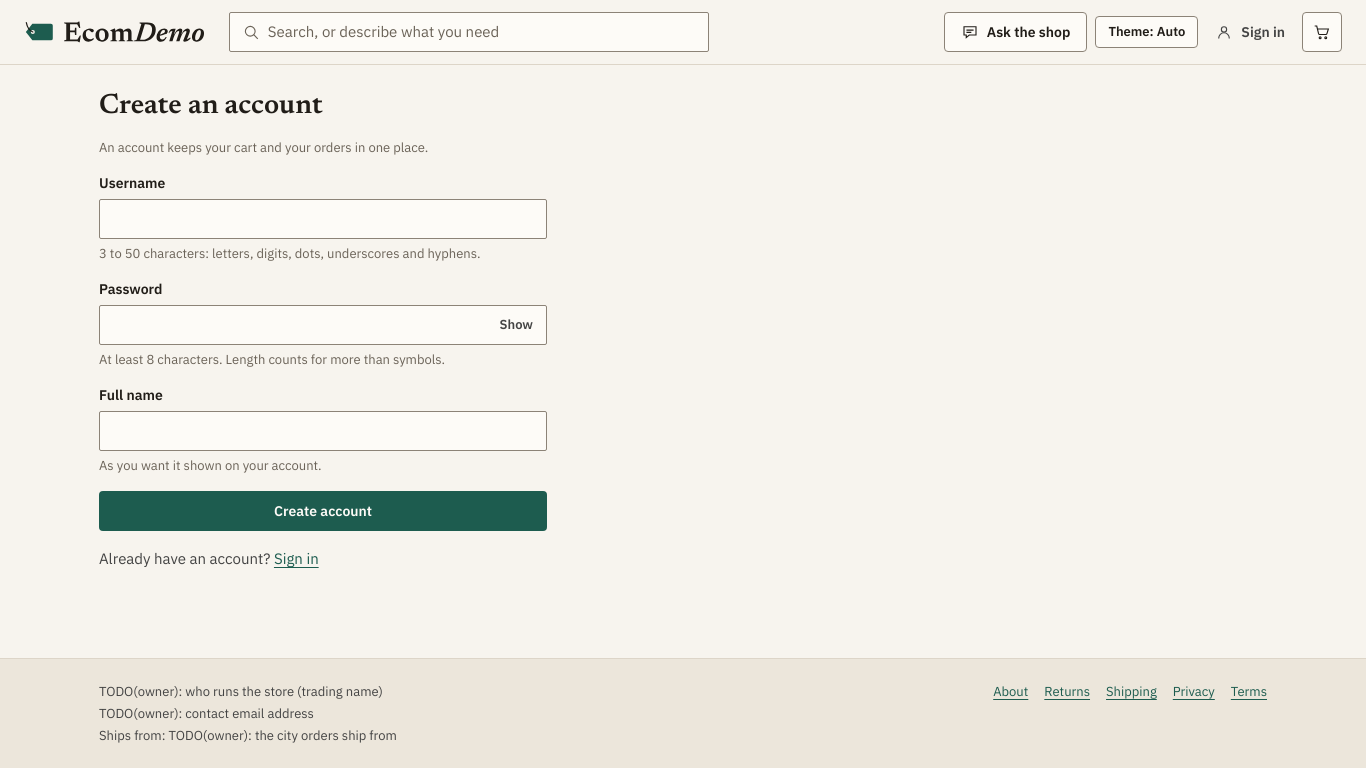
it: the register page › validation in the browser › stops an empty form, says what to do on every field, focuses the first, and sends nothing
The image size is (1366, 768).
expect the heading "Create an account" is shown: met, box [99,89,323,123]
Click the button "Create account". click: (323, 511)
box: [99,491,547,531]
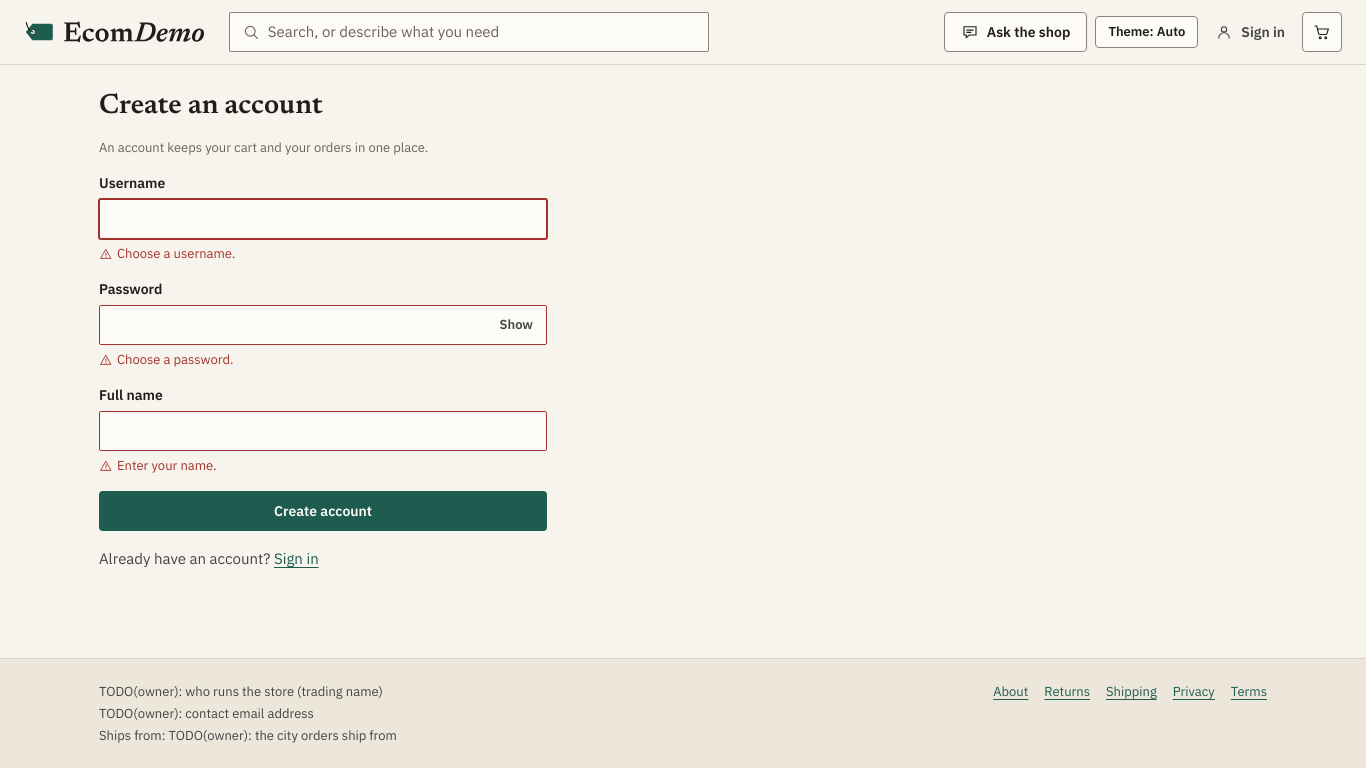
expect the text "Choose a username." is shown: met, box [99,245,235,262]
expect the text "Choose a password." is shown: met, box [99,351,234,368]
expect the text "Enter your name." is shown: met, box [99,457,216,474]
